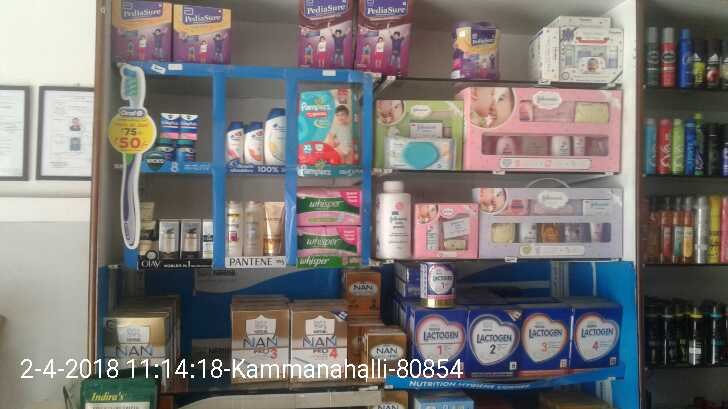vicks: (158, 113, 200, 138), (156, 140, 193, 160)
